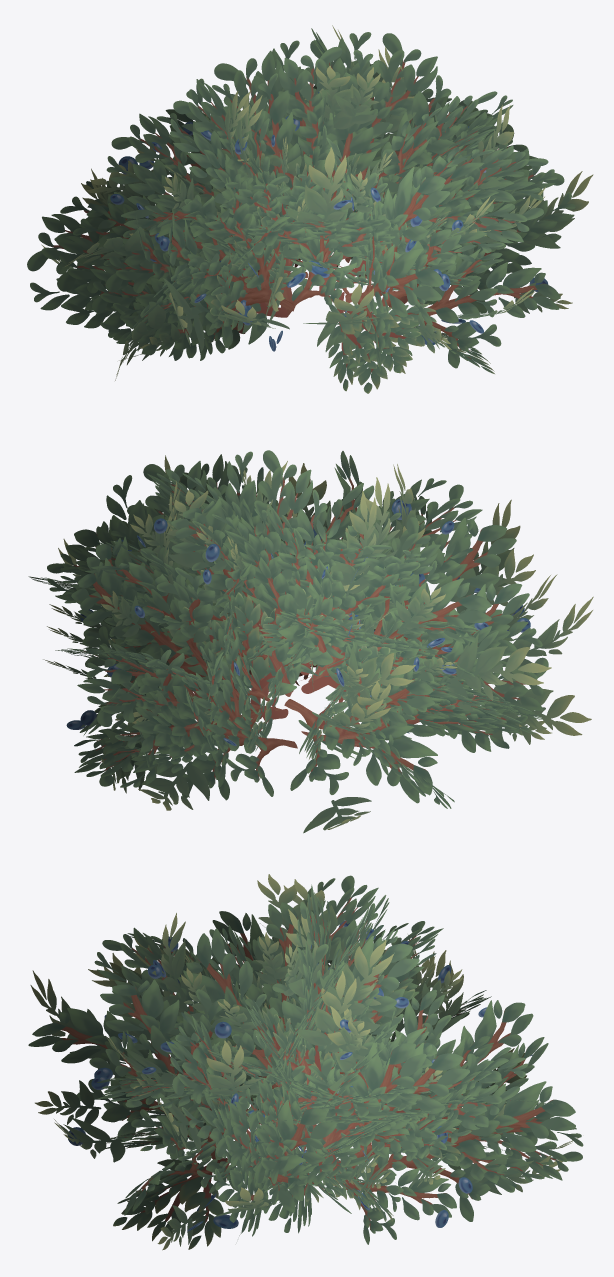
Rendered from berryBush_3.fbx.
3 renders of one model, top to bottom at view 1: azimuth 30°, elevation 25°; view 2: azimuth 150°, elevation 25°; view 3: azimuth 270°, elevation 25°, orthographic. The views are drawn at different scales.
Parts seen in each view (by area): view 1: BushBerry_1; view 2: BushBerry_1; view 3: BushBerry_1.
Part boxes in pixels (x1=…): BushBerry_1: x1=27, y1=25, x2=593, y2=393; BushBerry_1: x1=28, y1=450, x2=593, y2=833; BushBerry_1: x1=28, y1=874, x2=583, y2=1250.
Bounding box in the file's own units: 261 × 150 × 251.
Materials: 1 (1 with a texture image).
